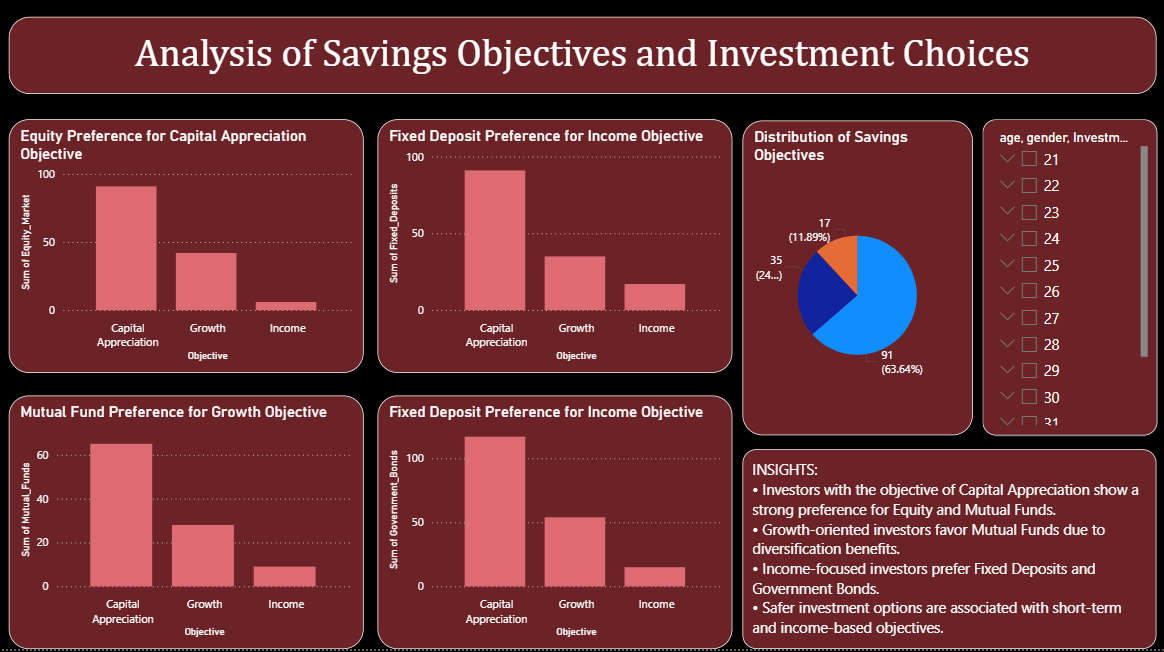

This screenshot's page, from the dashboard's own definition file:
{"tool":"powerbi","page":{"name":"Page 1","canvas":[1280,720],"ordinal":0},"visuals":[{"type":"textbox","box":[9.6,26.1,1259.7,85.1],"z":0},{"type":"clusteredColumnChart","title":"Equity Preference for Capital Appreciation Objective","fields":{"Category":["Data_set 2.Objective"],"Y":["Sum(Data_set 2.Equity_Market)"]},"box":[9.6,138.6,389.7,278.6],"z":1000},{"type":"clusteredColumnChart","title":"Mutual Fund Preference for Growth Objective","fields":{"Category":["Data_set 2.Objective"],"Y":["Sum(Data_set 2.Mutual_Funds)"]},"box":[9.6,441.9,389.7,278.6],"z":2000},{"type":"clusteredColumnChart","title":"Fixed Deposit Preference for Income Objective","fields":{"Category":["Data_set 2.Objective"],"Y":["Sum(Data_set 2.Fixed_Deposits)"]},"box":[414.4,138.6,389.7,278.6],"z":3000},{"type":"columnChart","title":"Fixed Deposit Preference for Income Objective","fields":{"Category":["Data_set 2.Objective"],"Y":["Sum(Data_set 2.Government_Bonds)"]},"box":[414.4,441.9,389.7,278.6],"z":4000},{"type":"textbox","box":[815.1,500.9,454.2,219.6],"z":5000},{"type":"slicer","fields":{"Values":["Data_set 2.age","Data_set 2.gender","Data_set 2.Investment_Avenues"]},"box":[1078.6,138.6,192.1,347.2],"z":6000},{"type":"pieChart","title":"Distribution of Savings Objectives","fields":{"Category":["Data_set 2.Objective"],"Y":["Sum(Data_set 2.Fixed_Deposits)"]},"box":[815.1,140,252.5,345.8],"z":7000}]}

Visuals, with their boxes in screenshot pixels (x1, y1, x2, y2), scaled from the page's 1280x720 canvas onto the 1164x652 screenshot:
textbox: crop(9, 24, 1154, 101)
"Equity Preference for Capital Appreciation Objective" clusteredColumnChart: crop(9, 126, 363, 378)
"Mutual Fund Preference for Growth Objective" clusteredColumnChart: crop(9, 400, 363, 651)
"Fixed Deposit Preference for Income Objective" clusteredColumnChart: crop(377, 126, 731, 378)
"Fixed Deposit Preference for Income Objective" columnChart: crop(377, 400, 731, 651)
textbox: crop(741, 454, 1154, 651)
slicer - Data_set 2.age x Data_set 2.gender: crop(981, 126, 1156, 440)
"Distribution of Savings Objectives" pieChart: crop(741, 127, 971, 440)
